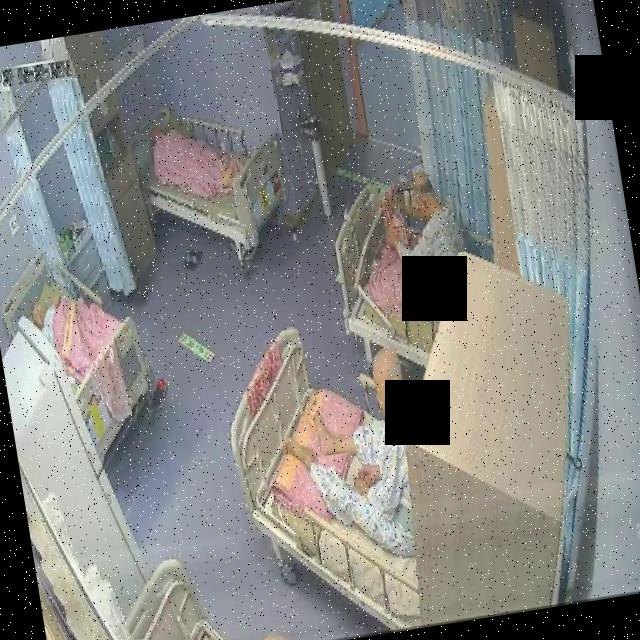bed: (214, 313, 456, 640), (0, 238, 165, 472), (328, 178, 487, 378), (128, 88, 292, 266)
patient: (274, 350, 438, 574), (337, 160, 479, 334)
sit: (272, 348, 438, 574), (336, 160, 478, 332)
